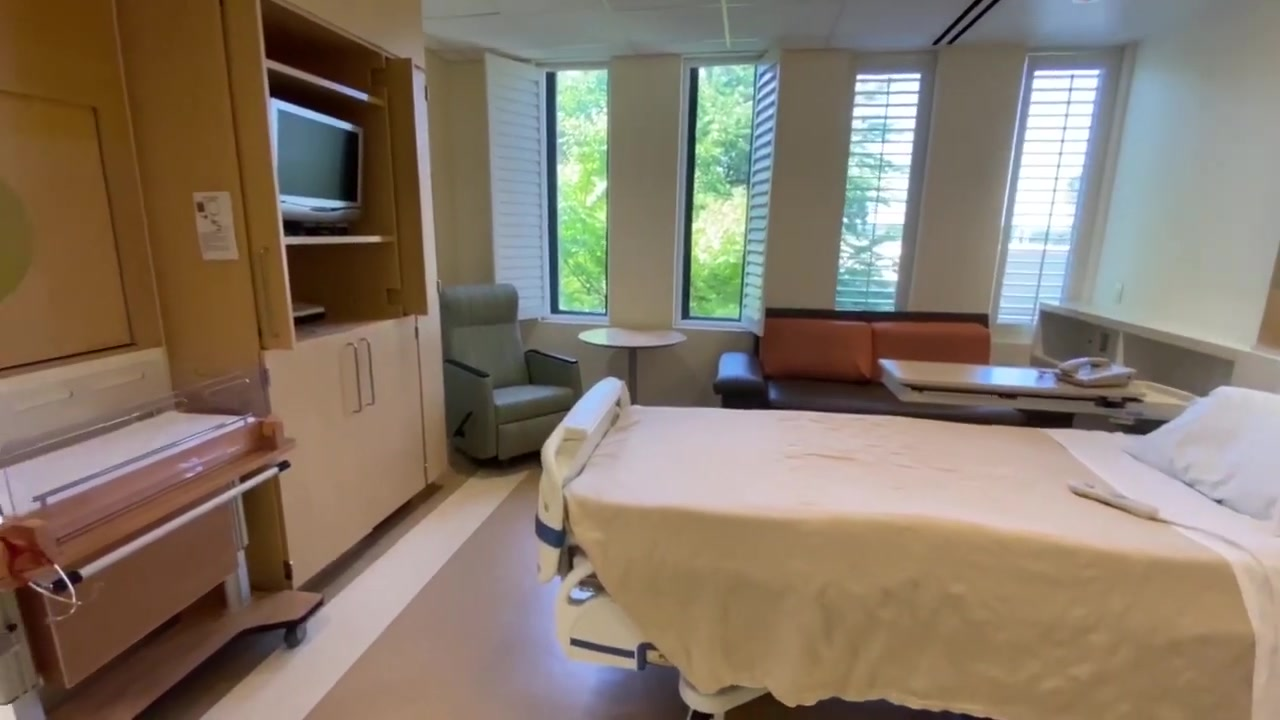TV: (271, 97, 363, 225)
bedrail: (558, 561, 670, 673)
foot_board: (534, 377, 633, 586)
handle: (254, 245, 283, 341), (345, 341, 366, 414), (360, 337, 377, 406)
hospital_bed: (533, 374, 1280, 720)
overbed_table: (875, 358, 1202, 433)
sofa: (713, 307, 1025, 427), (439, 282, 584, 466)
table: (577, 327, 687, 407)
telephone: (1055, 357, 1144, 388)
